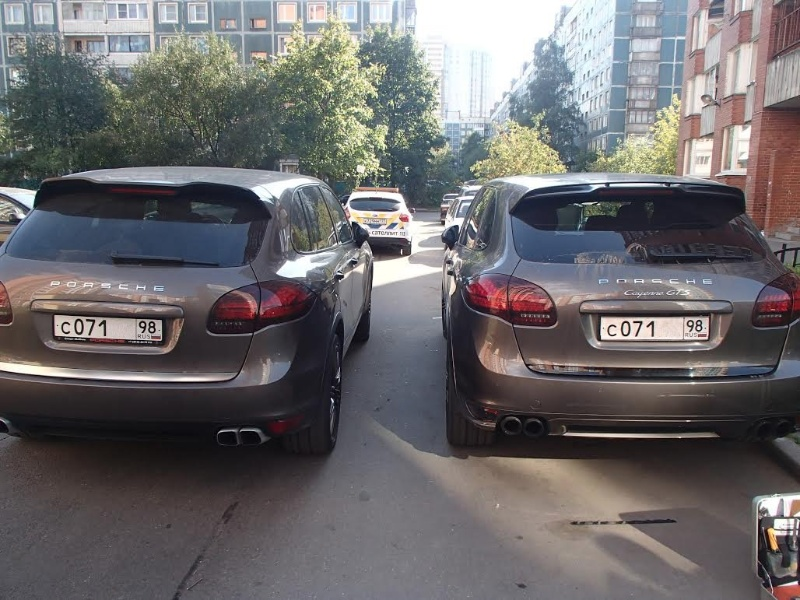car: (1, 166, 374, 459), (441, 174, 800, 451), (345, 188, 414, 255), (1, 186, 36, 244), (446, 197, 474, 233)
plate: (53, 315, 164, 344), (600, 314, 709, 341), (364, 218, 386, 225)
